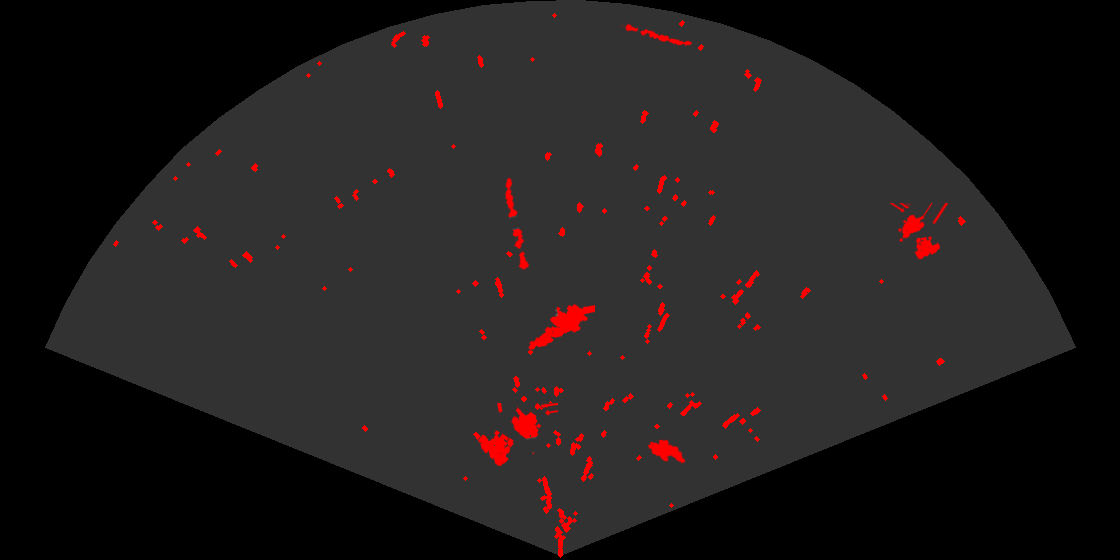AUV: (646, 438, 687, 465)
cage: (477, 403, 558, 468), (888, 203, 950, 261)
chain: (503, 176, 531, 273), (620, 22, 694, 47)
frogman: (527, 303, 595, 351)
